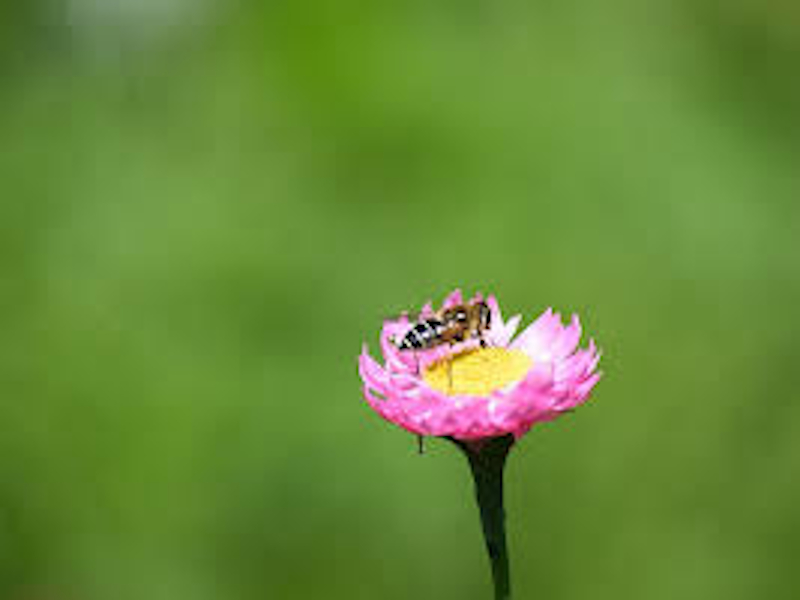abeja: (385, 277, 530, 388)
